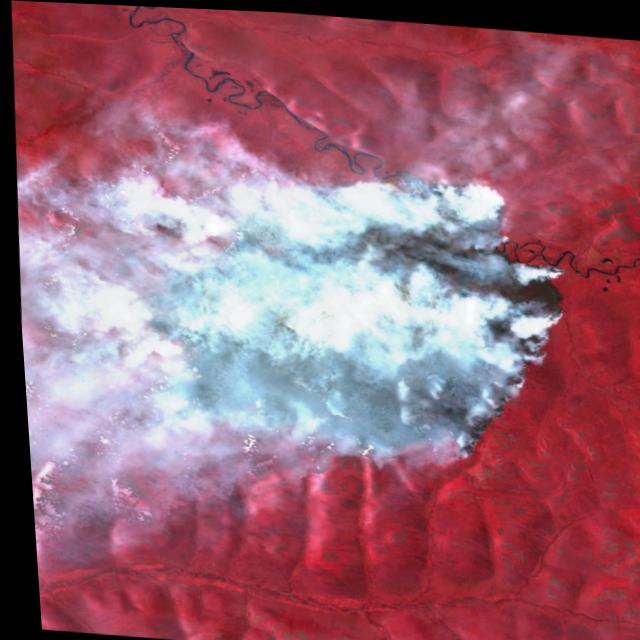fire: (119, 148, 579, 475)
